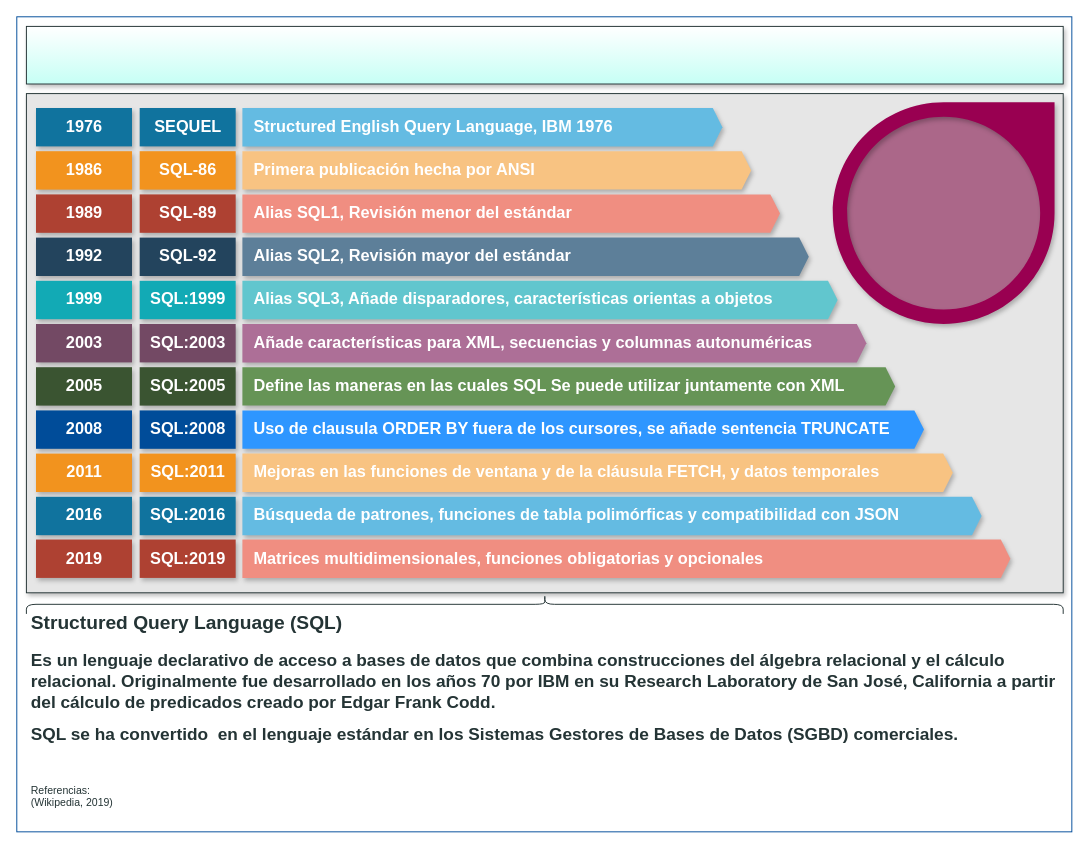
The diagram is 1089 pixels wide and 849 high, and some of its shapes have lost their labels. Each missing label, with the centre of its shape:
Estándares SQL: the point at 944,214
Structured Query Language (SQL) KnowLedge: the point at 545,56
